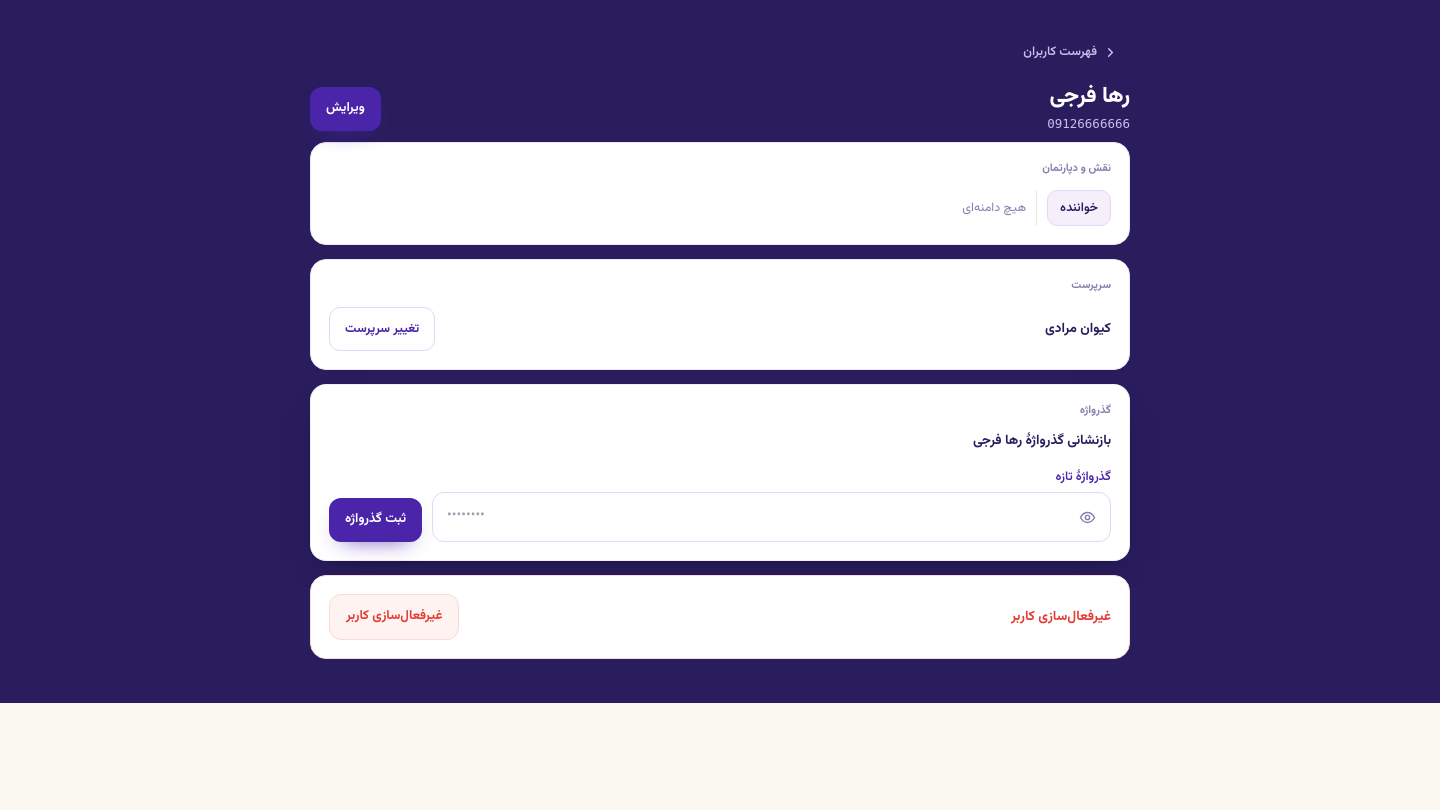
the scope fieldset › draws an account holding nothing as holding nothing, which is what makes that mean something
Click the button "ویرایش". click: (345, 109)
box: [310,87,381,131]
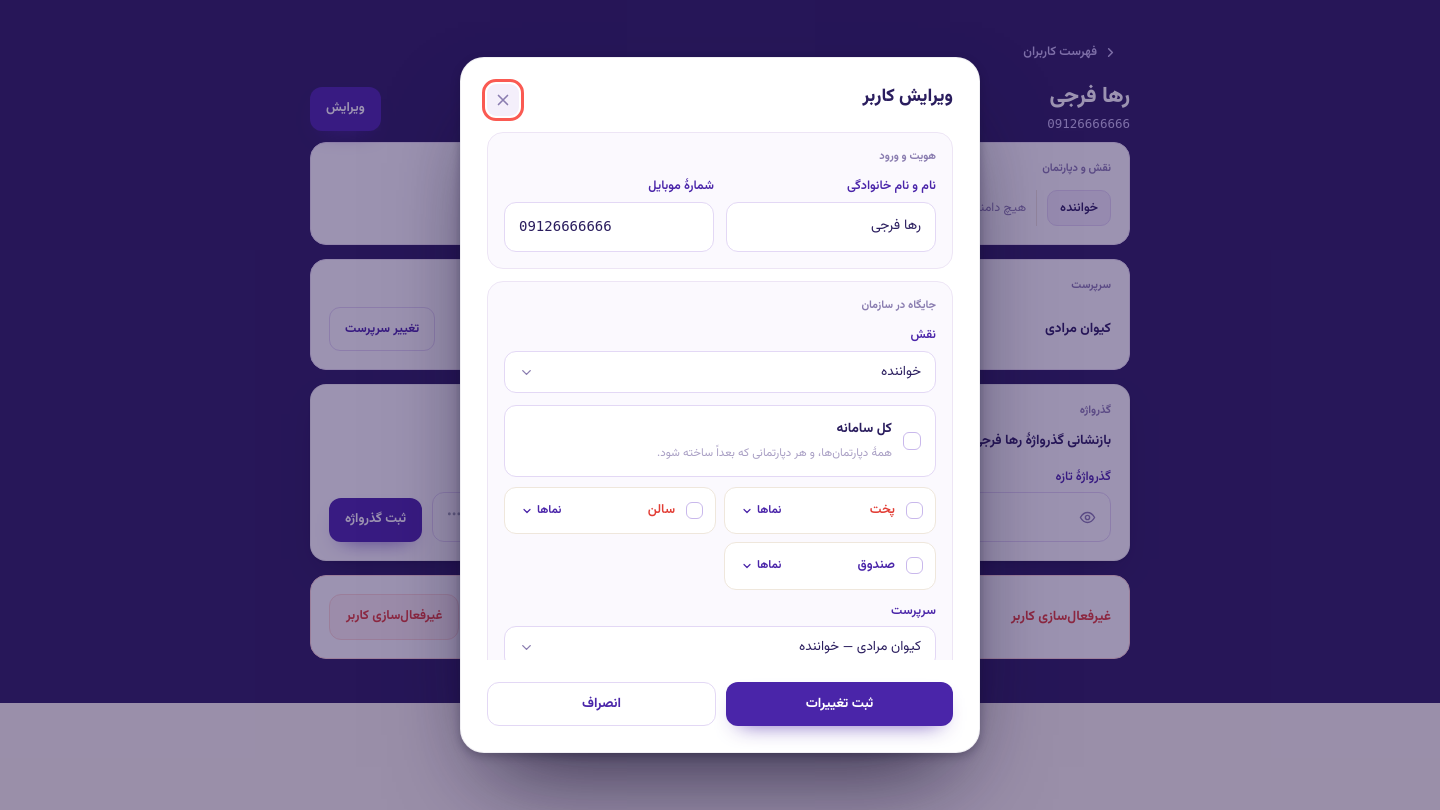
Expected: the dialog is shown, [460,57,980,753]
Expected: the checkbox that starts with "کل سامانه" is not checked, [504,405,936,477]
Expected: the checkbox labelled "پخت نماها" is not checked, [724,487,936,534]
Click the button "نماها" next to "سالن". click: (541, 511)
box: [517,498,565,523]
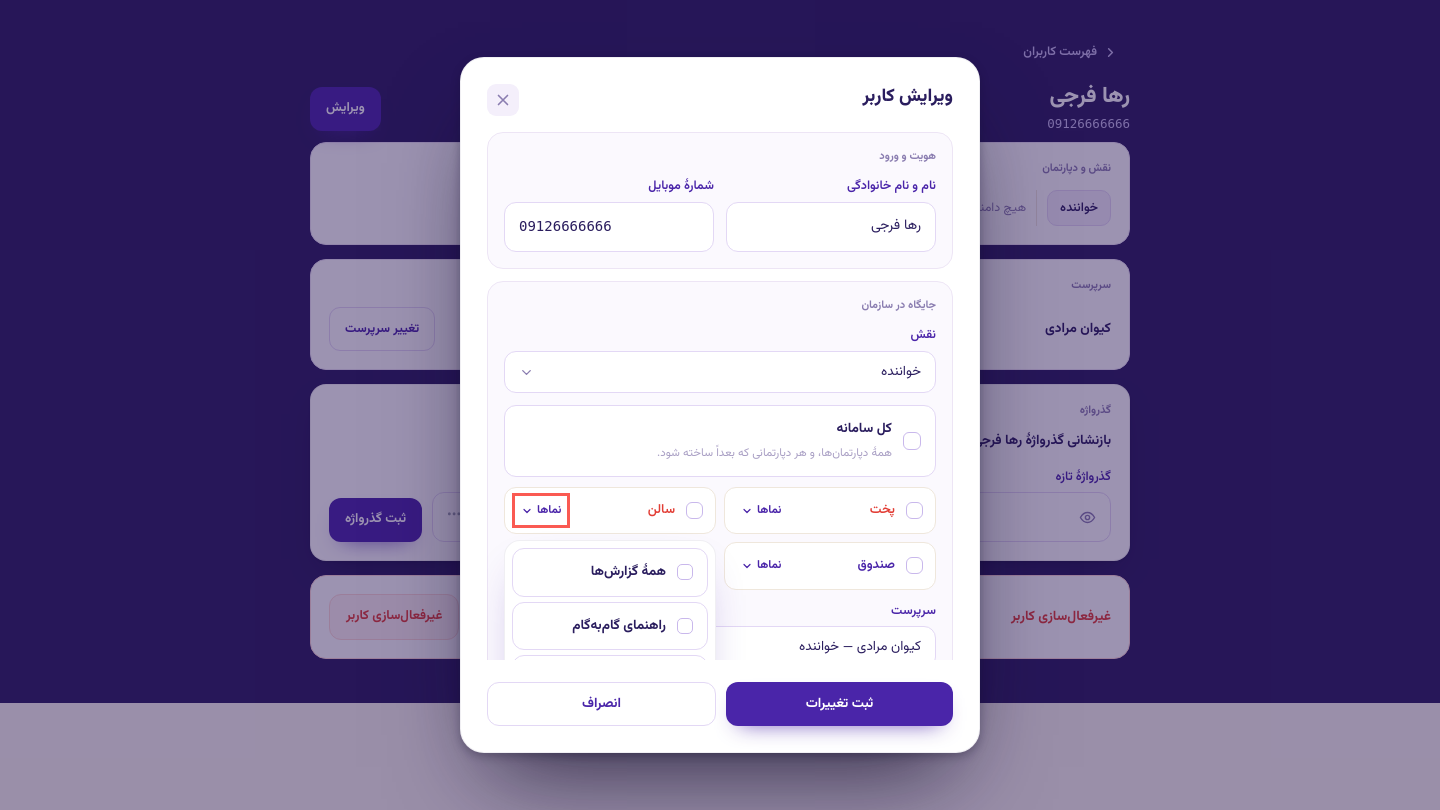
Expected: the checkbox labelled "راهنمای گام‌به‌گام" is not checked, [512,602,708,650]
